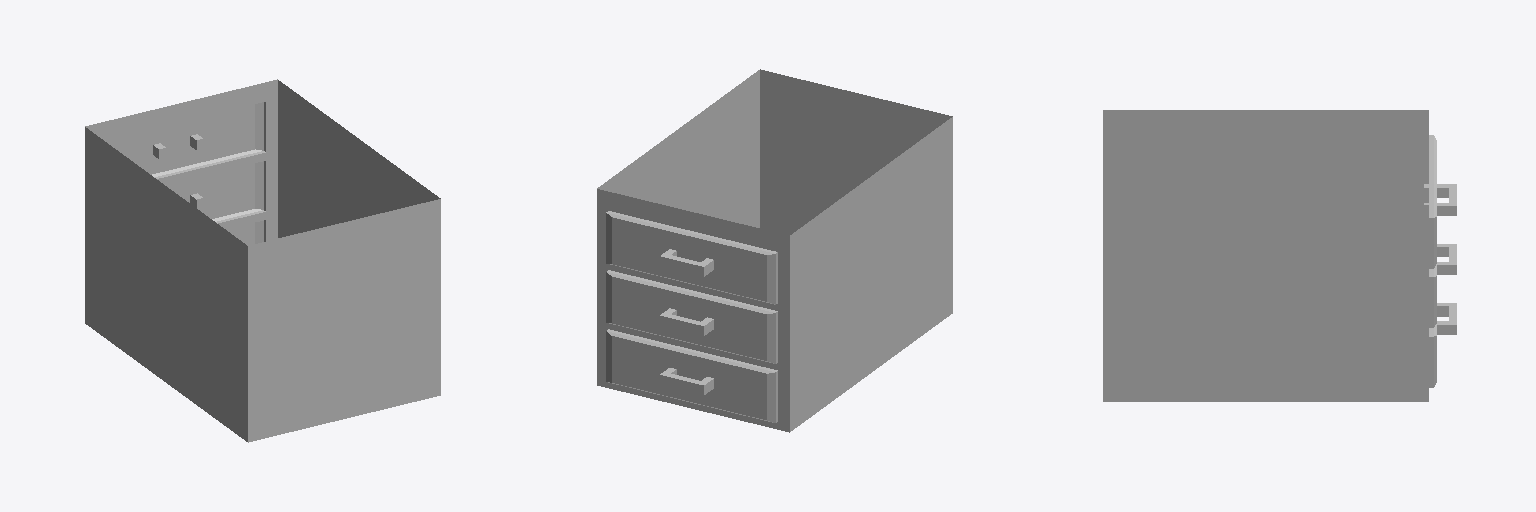
File: desk_left_2.obj
3 renders of one model, left to right at view 1: azimuth 30°, elevation 25°; view 2: azimuth 150°, elevation 25°; view 3: azimuth 270°, elevation 25°, orthographic.
Bounding box in the file's own units: 4.53 × 4.41 × 7.19.